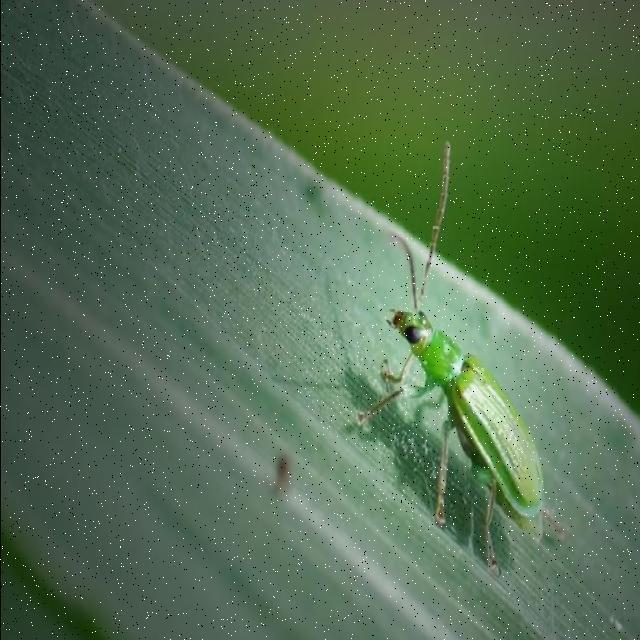gusano_gris: (375, 168, 547, 610)
